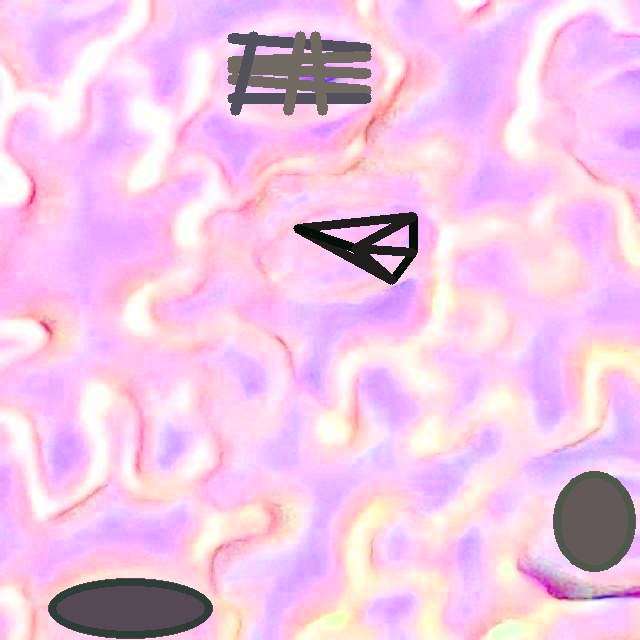close: (293, 212, 417, 284), (553, 471, 635, 571)
open: (227, 31, 370, 115), (47, 579, 212, 638)
